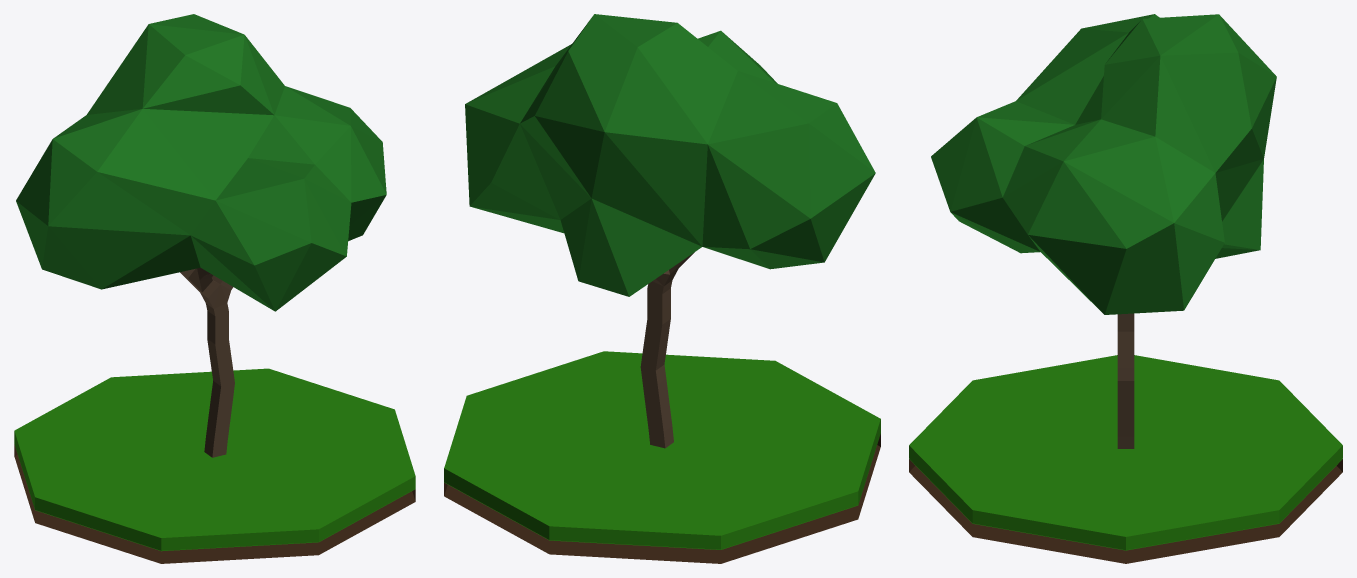
File: Tree lowpoly.fbx
3 views of the same model, side by side, from view 1: azimuth 30°, elevation 25°; view 2: azimuth 150°, elevation 25°; view 3: azimuth 270°, elevation 25° (orthographic). The views are drawn at different scales.
Parts seen in each view (by area): view 1: Mball.008, Circle, Vert; view 2: Mball.008, Circle, Vert; view 3: Mball.008, Circle, Vert.
Part boxes in pixels (bbox=[...]): Mball.008: bbox=[16, 14, 386, 311]; Circle: bbox=[14, 368, 415, 563]; Vert: bbox=[180, 267, 234, 457]; Mball.008: bbox=[465, 14, 875, 296]; Circle: bbox=[444, 351, 880, 563]; Vert: bbox=[640, 252, 694, 448]; Mball.008: bbox=[931, 14, 1276, 314]; Circle: bbox=[909, 355, 1342, 563]; Vert: bbox=[1117, 313, 1134, 448].
Bounding box in the file's own units: 812 × 920 × 809.
